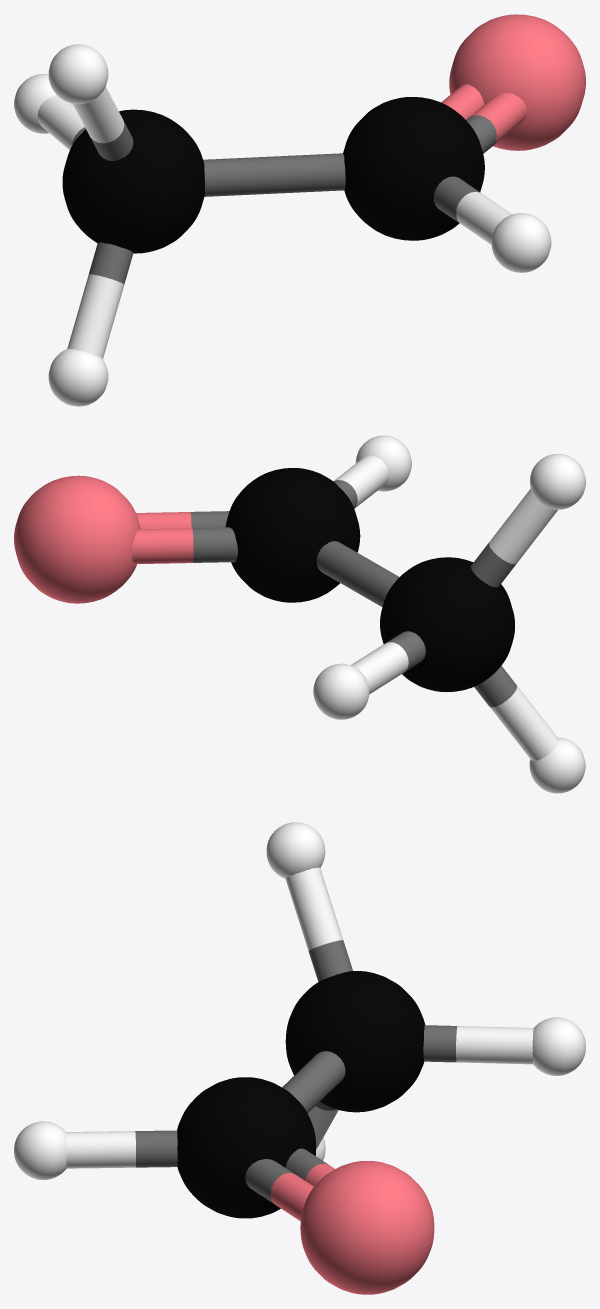
The model's file is ethanal.glb.
3 views of the same model, one above another, from view 1: azimuth 30°, elevation 25°; view 2: azimuth 150°, elevation 25°; view 3: azimuth 270°, elevation 25° (orthographic). The views are drawn at different scales.
Visible parts, largest first — view 1: Oxygen_ball.001, Hydrogen_sticks_cylinder.039; view 2: Oxygen_ball.001, Hydrogen_sticks_cylinder.039; view 3: Oxygen_ball.001, Hydrogen_sticks_cylinder.039.
Boxes of the visible parts, bbox=[...] form: Oxygen_ball.001: bbox=[14, 14, 585, 406]; Hydrogen_sticks_cylinder.039: bbox=[37, 84, 526, 358]; Oxygen_ball.001: bbox=[14, 435, 585, 793]; Hydrogen_sticks_cylinder.039: bbox=[132, 455, 558, 761]; Oxygen_ball.001: bbox=[14, 822, 585, 1294]; Hydrogen_sticks_cylinder.039: bbox=[66, 867, 533, 1220].
Size of the model in its own units: 3.46 by 2.11 by 3.12.
